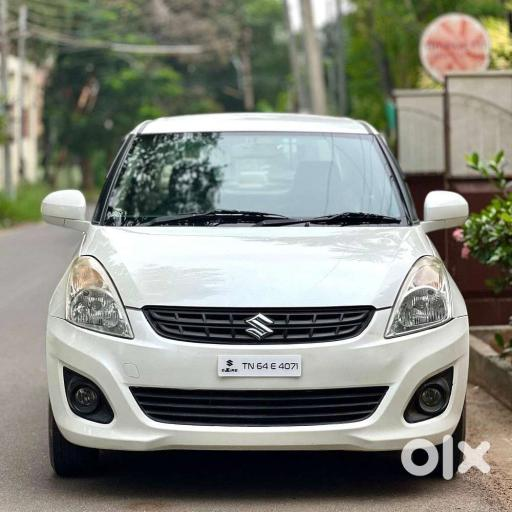License: (210, 347, 312, 377)
